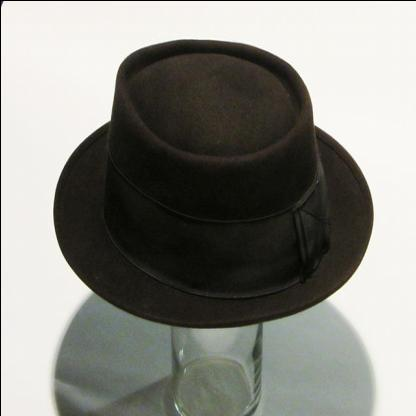hat: (48, 34, 378, 332)
